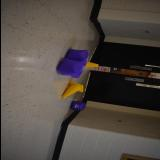cone: (61, 81, 82, 98), (82, 61, 98, 67)
cube: (56, 58, 84, 78), (66, 48, 88, 66), (69, 101, 85, 111)
